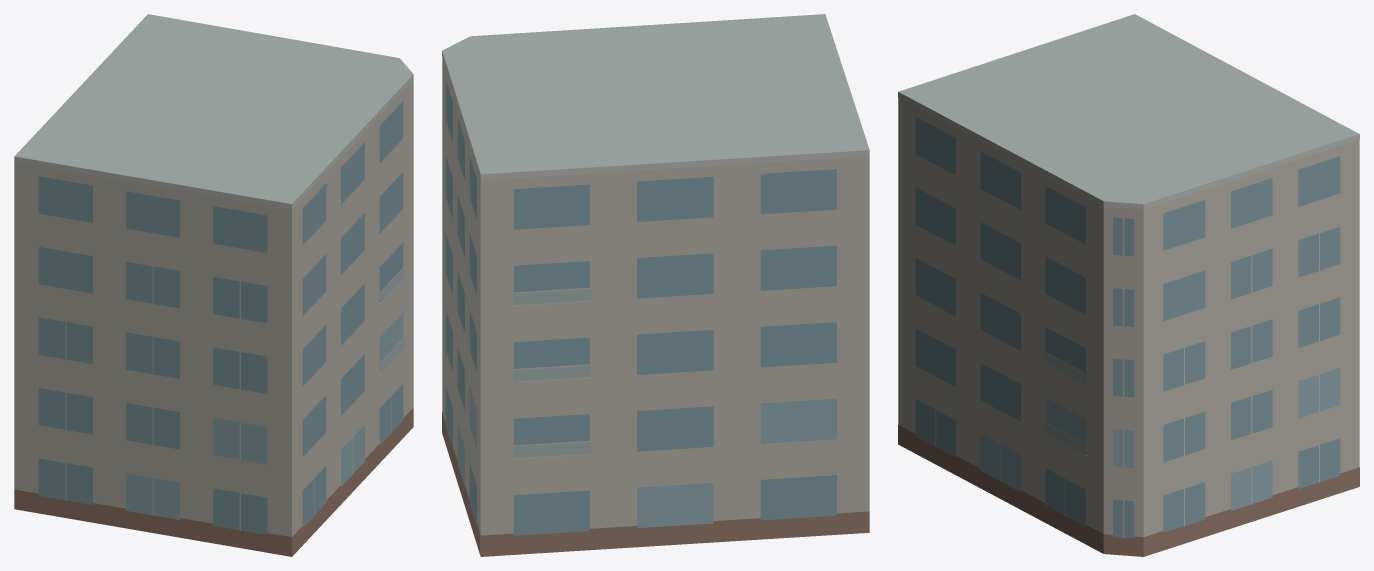
The model's file is survey-upis-32677266.glb.
3 renders of one model, left to right at view 1: azimuth 30°, elevation 25°; view 2: azimuth 150°, elevation 25°; view 3: azimuth 270°, elevation 25°, orthographic. The views are drawn at different scales.
Parts seen in each view (by area): view 1: survey-upis-32677266.tmp; view 2: survey-upis-32677266.tmp; view 3: survey-upis-32677266.tmp.
Boxes of the visible parts, x1,y1,x2,y2 form: survey-upis-32677266.tmp: (14,14,413,556); survey-upis-32677266.tmp: (442,14,869,556); survey-upis-32677266.tmp: (898,14,1359,556).
Bounding box in the file's own units: 18.4 × 15.9 × 18.87.
